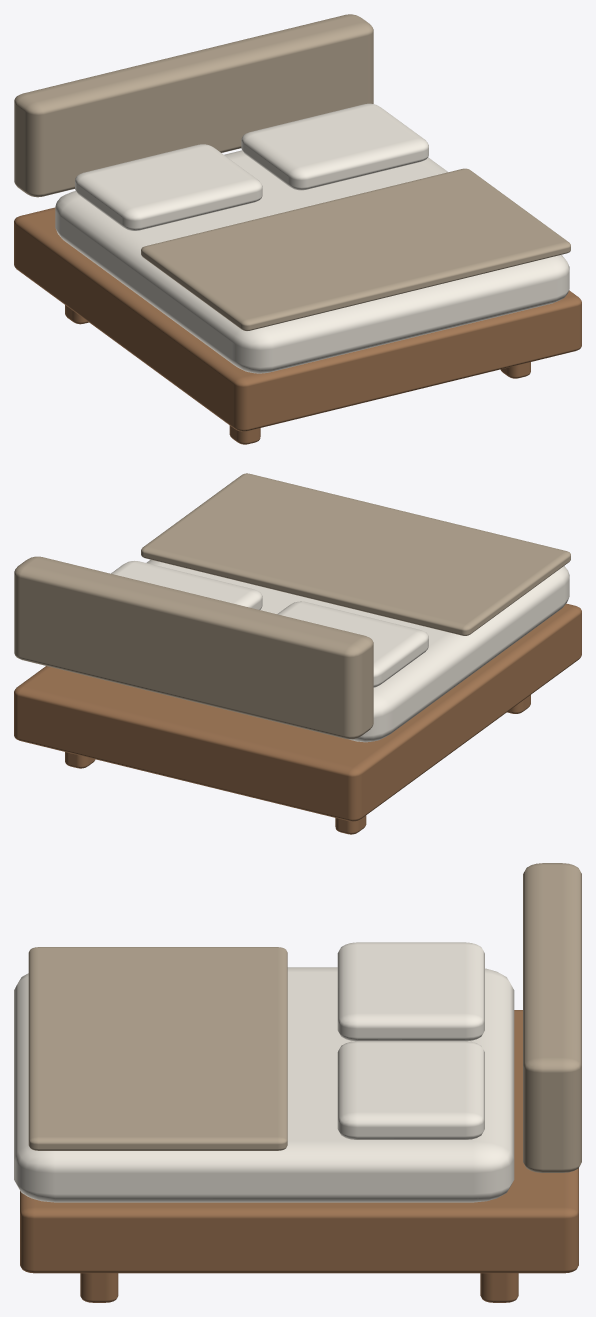
Rendered from bed-double.glb.
The picture shows the model from 3 angles, top to bottom: view 1: azimuth 30°, elevation 25°; view 2: azimuth 150°, elevation 25°; view 3: azimuth 270°, elevation 25°; orthographic projection. The views are drawn at different scales.
Size of the model in its own units: 1.8 by 1.05 by 2.1.
